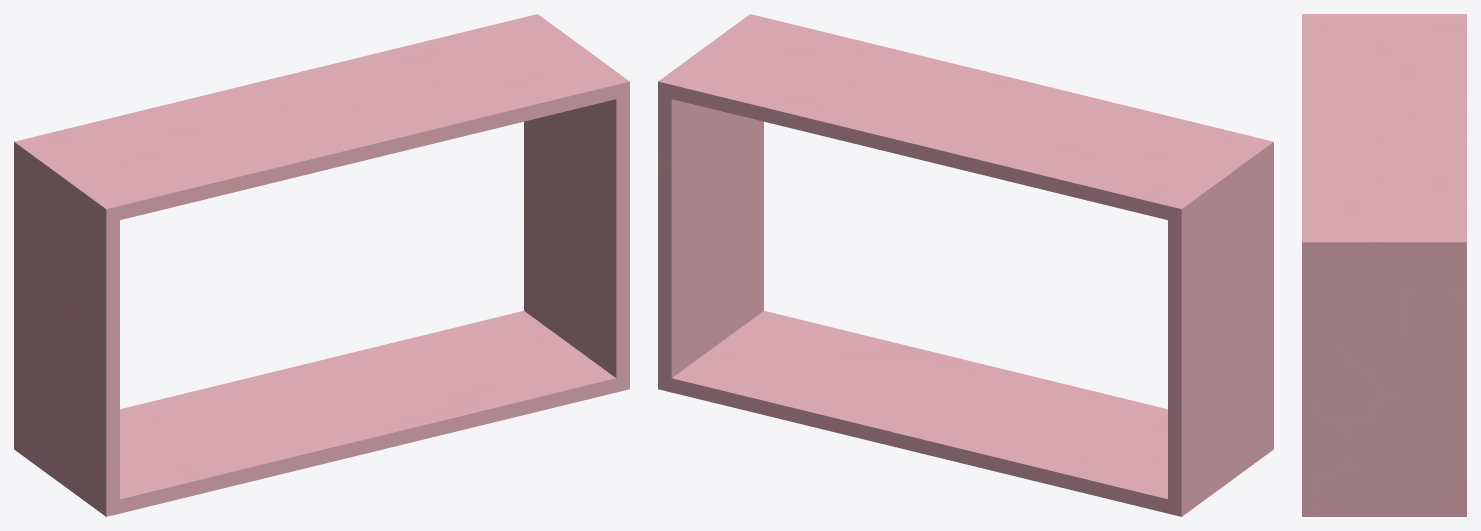
Rendered from Wall_Shelf_01_03.fbx.
3 renders of one model, left to right at view 1: azimuth 30°, elevation 25°; view 2: azimuth 150°, elevation 25°; view 3: azimuth 270°, elevation 25°, orthographic. The views are drawn at different scales.
Parts seen in each view (by area): view 1: Wall_Shelf_01_03; view 2: Wall_Shelf_01_03; view 3: Wall_Shelf_01_03.
Boxes of the visible parts, <box> form: Wall_Shelf_01_03: <box>14,14,629,516</box>; Wall_Shelf_01_03: <box>658,14,1273,516</box>; Wall_Shelf_01_03: <box>1302,14,1466,516</box>.
Size of the model in its own units: 1.31 by 0.7363 by 0.4.
